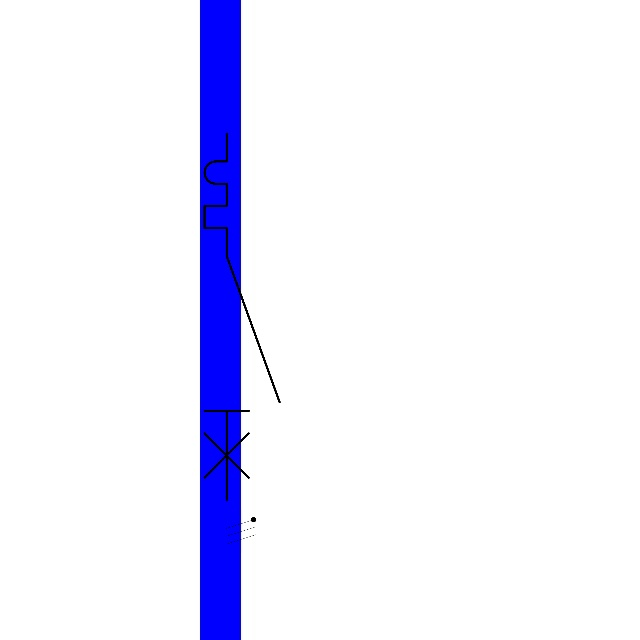interruptor_termomagnetico: (195, 124, 289, 510)
